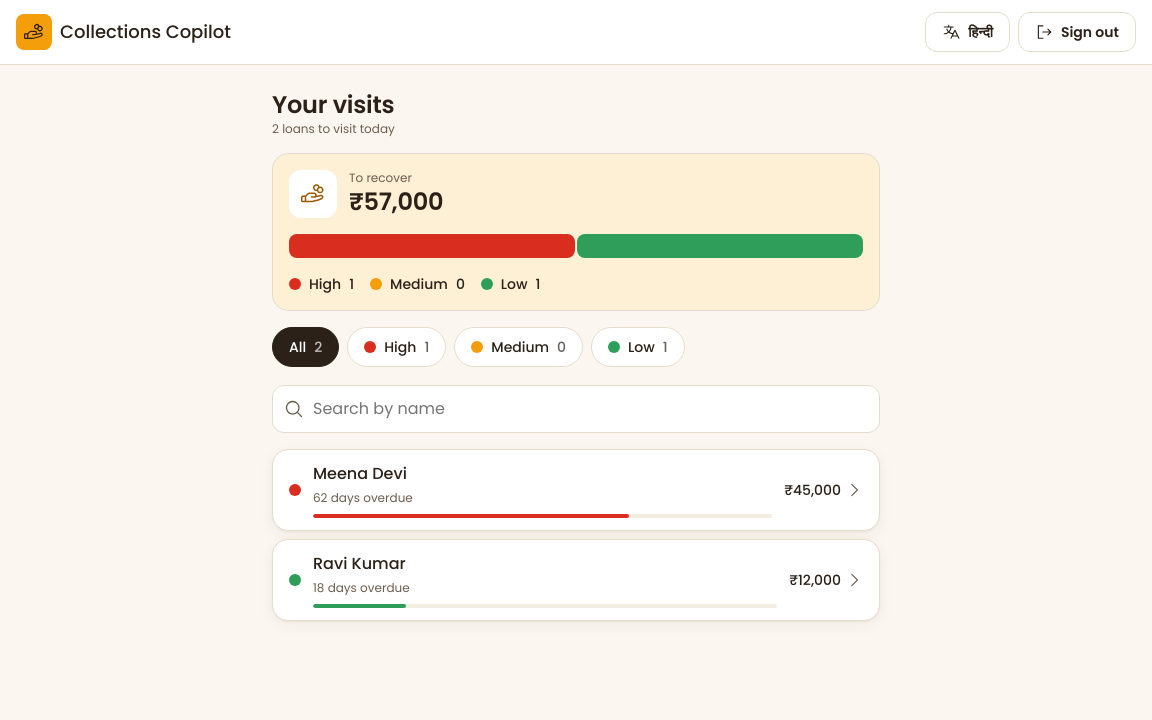
Test: officer list filters › searches by name and offers a way out when nothing matches
The width and height of the screenshot is (1152, 720).
Check: the text "Ravi Kumar" is shown, box [313, 552, 406, 575]
Type "ravi" into the search field at coordinates (576, 409), box [272, 385, 880, 433]
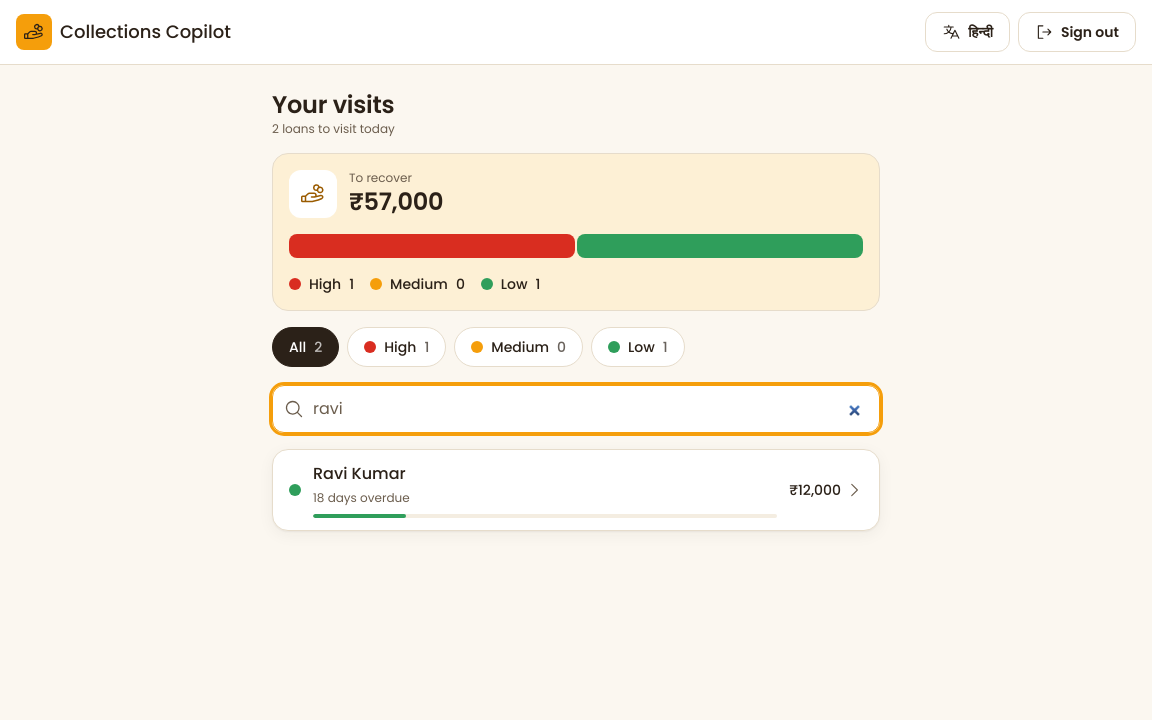
Check: the link "Meena Devi" is gone
Replace the text in the search field with "zzz" at coordinates (576, 409), box [272, 385, 880, 433]
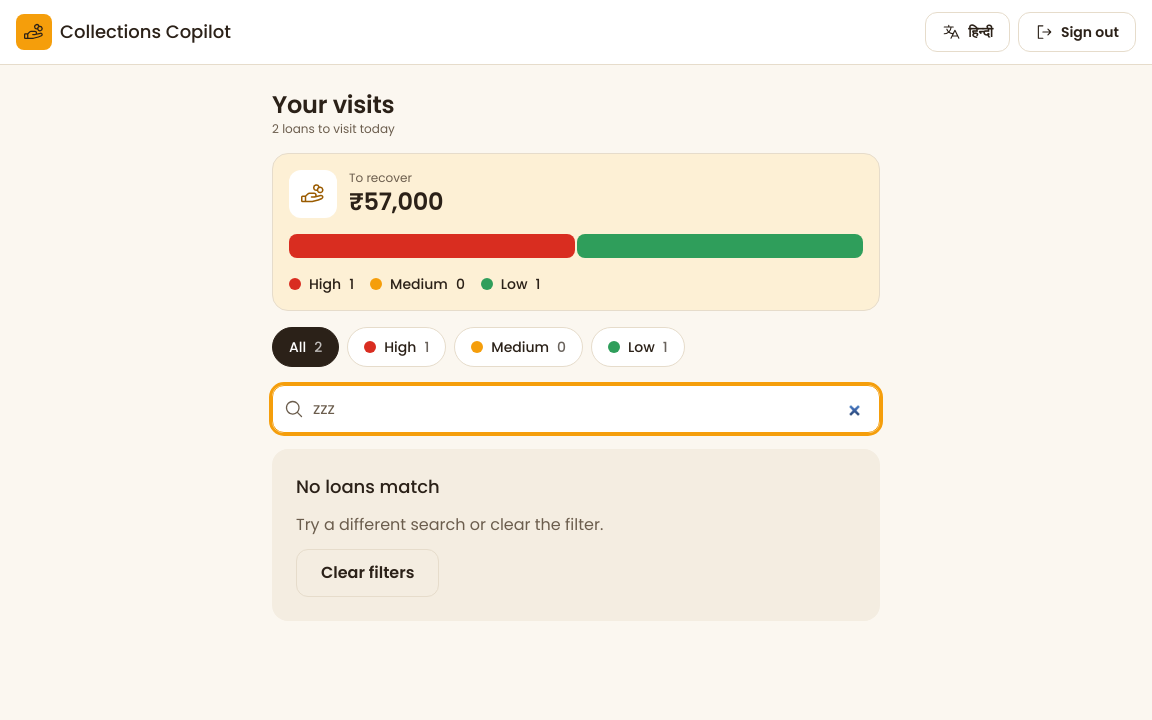
Check: the heading "No loans match" is shown, box [296, 473, 440, 501]
Click the button "Clear filters" at coordinates (368, 573), box [296, 549, 439, 597]
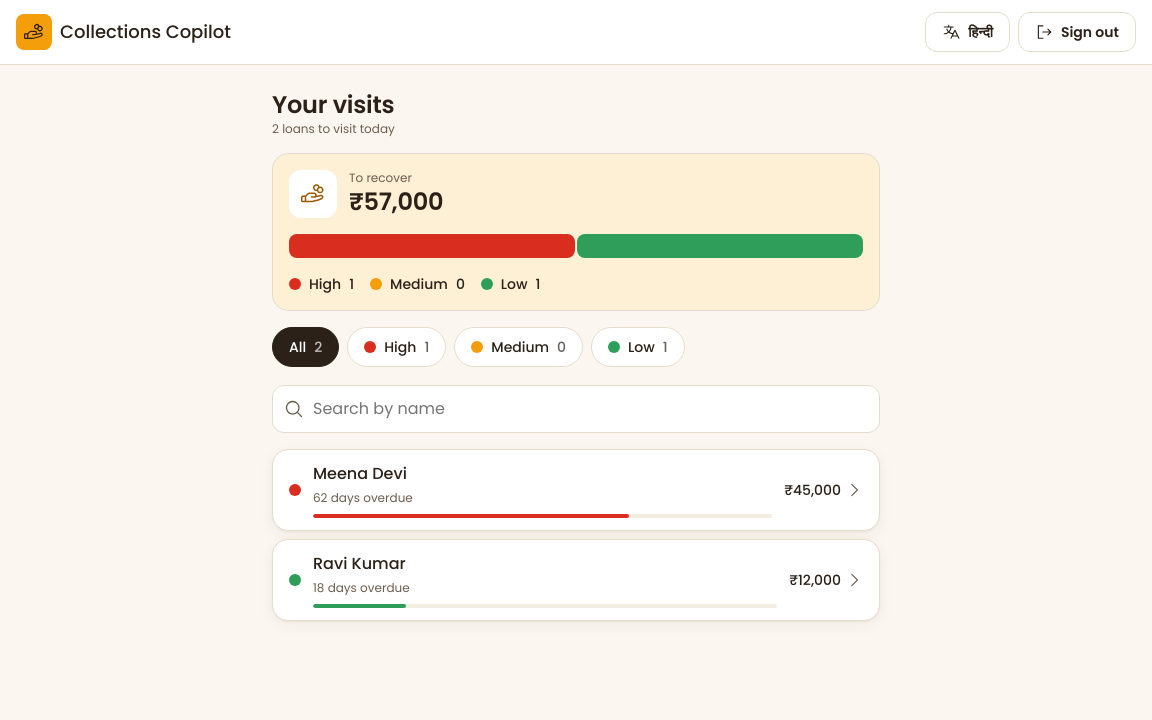
Check: the text "Ravi Kumar" is shown, box [313, 552, 406, 575]
